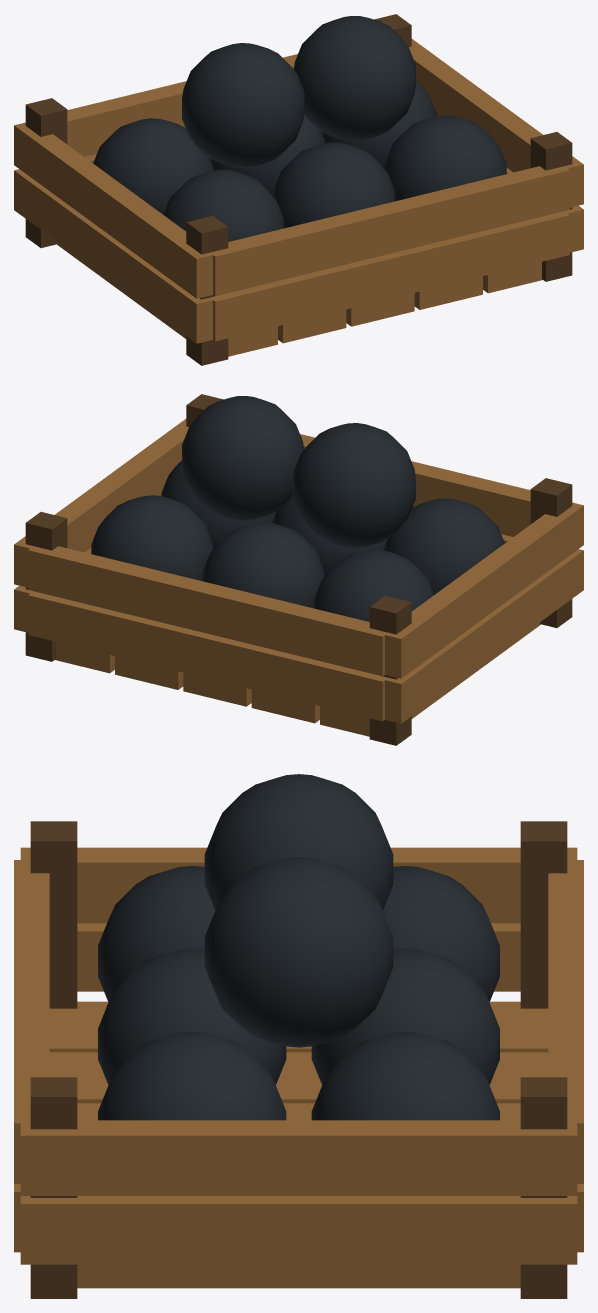
File: ammo.glb
3 views of the same model, one above another, from view 1: azimuth 30°, elevation 25°; view 2: azimuth 150°, elevation 25°; view 3: azimuth 270°, elevation 25° (orthographic). The views are drawn at different scales.
Visible parts, largest first — view 1: _MeshInstance3D_134, _MeshInstance3D_136, _MeshInstance3D_135; view 2: _MeshInstance3D_134, _MeshInstance3D_136, _MeshInstance3D_135; view 3: _MeshInstance3D_134, _MeshInstance3D_136, _MeshInstance3D_135.
Boxes of the visible parts, x1,y1,x2,y2 form: _MeshInstance3D_134: (14, 39, 583, 356); _MeshInstance3D_136: (93, 16, 506, 241); _MeshInstance3D_135: (25, 14, 572, 365); _MeshInstance3D_134: (14, 419, 583, 736); _MeshInstance3D_136: (91, 396, 504, 621); _MeshInstance3D_135: (25, 394, 572, 745); _MeshInstance3D_134: (14, 847, 583, 1288); _MeshInstance3D_136: (98, 774, 499, 1120); _MeshInstance3D_135: (30, 821, 567, 1298).
Bounding box in the file's own units: 3.06 × 1.68 × 2.56.
